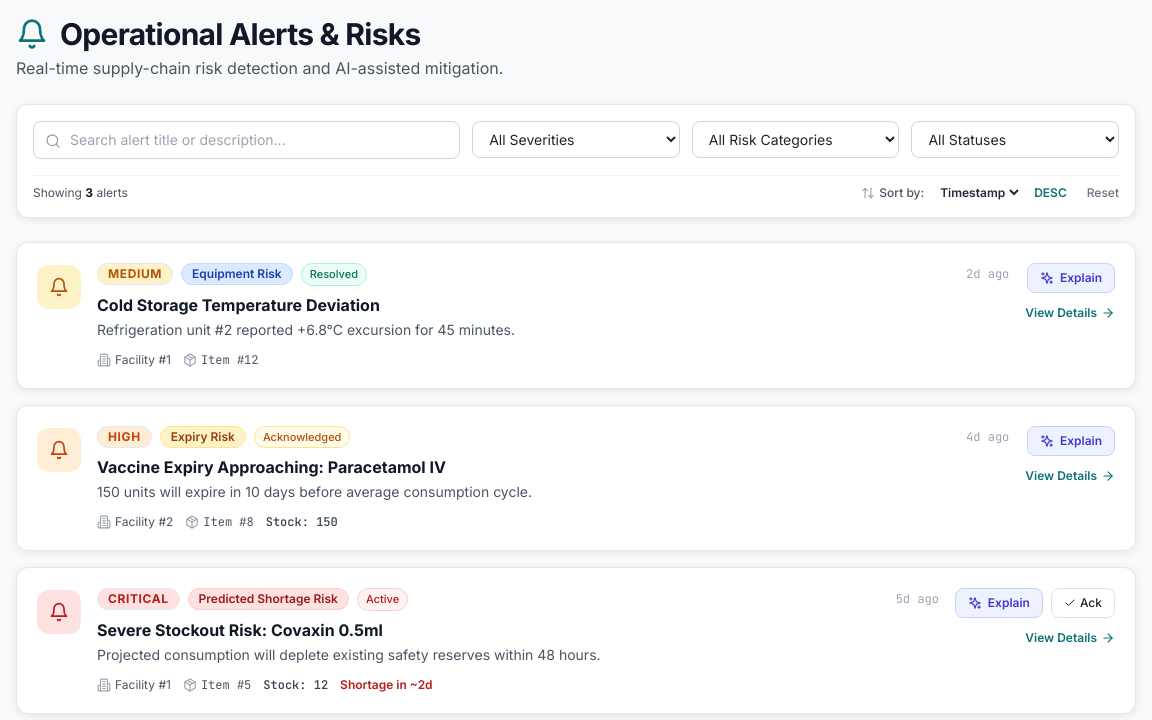
Test: PHASE 22 — Alerts & Predictions Module › Alerts List View (/alerts) › opens Quick Explain with Gemini modal and displays operational AI analysis
Step 1. Click the button with test id "explain-btn-101" → coordinates (999, 603), box [955,588,1043,618]
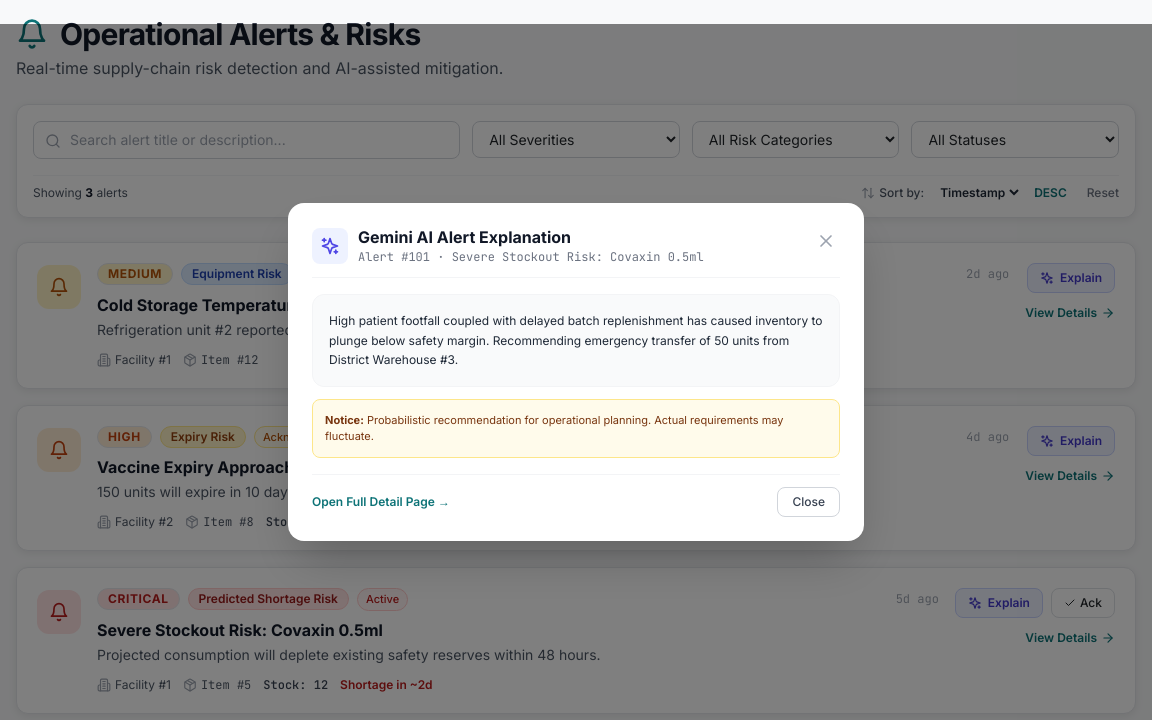
Expected: the element with test id "quick-gemini-output" is shown, [312,294,840,458]
Expected: the text "High patient footfall coupled with delayed batch replenishment" is shown, [329,313,822,367]
